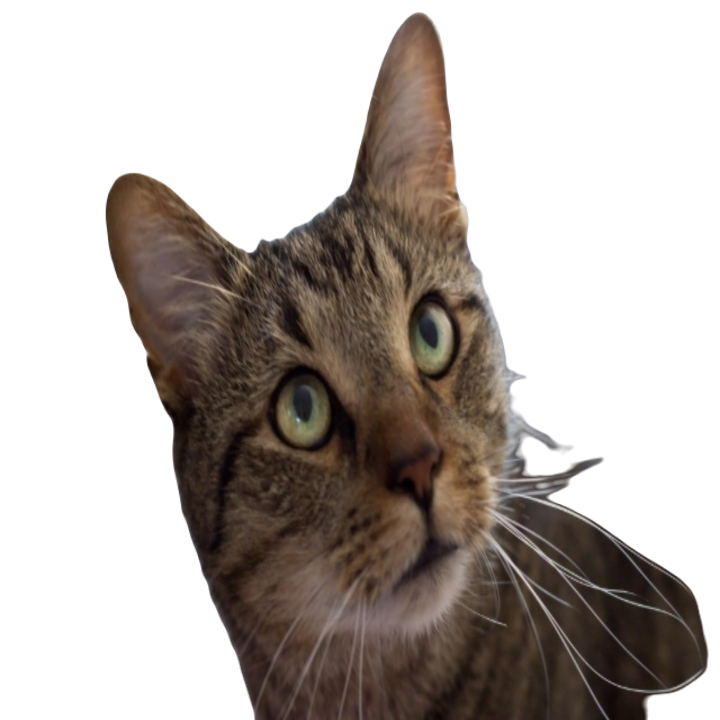Cat: (71, 14, 702, 719)
